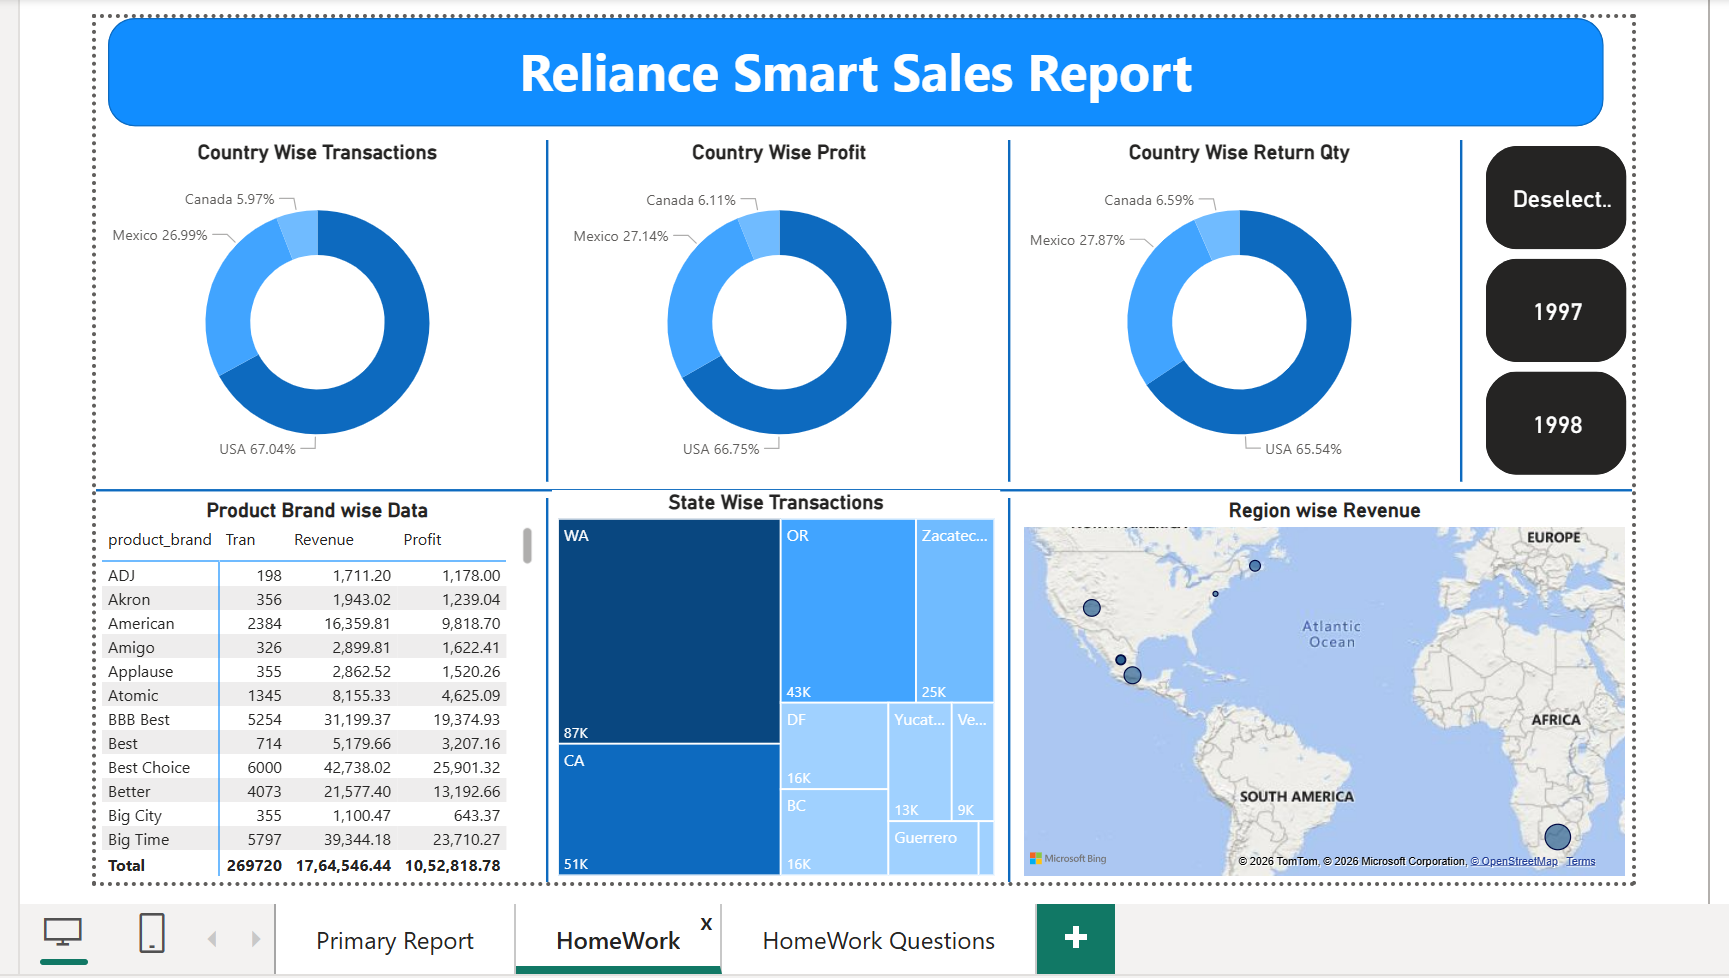

The dashboard page shown, as its layout file describes it:
{"tool":"powerbi","page":{"name":"HomeWork","canvas":[1280,720],"ordinal":1},"visuals":[{"type":"shape","box":[10.7,0,1246.3,90.3],"z":0},{"type":"textbox","box":[10.7,9.2,1246.3,72],"z":1000},{"type":"donutChart","title":"Country Wise Transactions","fields":{"Category":["d_Stores.store_country"],"Y":["Measure Table.M_Total_Transactions"]},"box":[0,101.1,369,284.8],"z":2000},{"type":"donutChart","title":"Country Wise Profit","fields":{"Category":["d_Stores.store_country"],"Y":["Measure Table.M_Total_Profit"]},"box":[384.3,101.1,369,284.8],"z":3000},{"type":"shape","box":[369,101.1,15.3,284.8],"z":4000},{"type":"shape","box":[753.3,101.1,15.3,284.8],"z":5000},{"type":"donutChart","title":"Country Wise Return Qty","fields":{"Category":["d_Stores.store_country"],"Y":["Measure Table.M_Total_Returns"]},"box":[768.6,101.1,369,284.8],"z":6000},{"type":"shape","box":[1130,101.1,15.3,284.8],"z":7000},{"type":"advancedSlicerVisual","fields":{"Values":["d_Calendar.Year"]},"box":[1152.9,101.1,127.1,284.8],"z":8000},{"type":"shape","box":[0,385.8,1280,13.8],"z":9000},{"type":"pivotTable","title":"Product Brand wise Data","fields":{"Rows":["d_Products.product_brand"],"Values":["Measure Table.M_Total_Transactions","Measure Table.M_Total_Revenue","Measure Table.M_Total_Profit"]},"box":[0,399.6,369,320],"z":10000},{"type":"shape","box":[369,399.6,15.3,320],"z":11000},{"type":"treemap","title":"State Wise Transactions","fields":{"Group":["d_Stores.store_state"],"Values":["Measure Table.M_Total_Transactions"]},"box":[379.7,393.5,373.6,326.1],"z":12000},{"type":"shape","box":[753.3,399.6,15.3,320],"z":13000},{"type":"map","title":"Region wise Revenue","fields":{"Category":["d_Regions.sales_region"],"Size":["Measure Table.M_Total_Revenue"]},"box":[768.6,399.6,511.4,320],"z":14000}]}

Visuals, with their boxes on the page's 1280x720 design canvas (x1, y1, x2, y2). These are canvas units, not pixel positions in the 1729x978 screenshot, which may show the page scaled, cropped or inside an application window:
shape: bbox=[11, 0, 1257, 90]
textbox: bbox=[11, 9, 1257, 81]
"Country Wise Transactions" donutChart: bbox=[0, 101, 369, 386]
"Country Wise Profit" donutChart: bbox=[384, 101, 753, 386]
shape: bbox=[369, 101, 384, 386]
shape: bbox=[753, 101, 769, 386]
"Country Wise Return Qty" donutChart: bbox=[769, 101, 1138, 386]
shape: bbox=[1130, 101, 1145, 386]
advancedSlicerVisual - d_Calendar.Year: bbox=[1153, 101, 1280, 386]
shape: bbox=[0, 386, 1280, 400]
"Product Brand wise Data" pivotTable: bbox=[0, 400, 369, 720]
shape: bbox=[369, 400, 384, 720]
"State Wise Transactions" treemap: bbox=[380, 394, 753, 720]
shape: bbox=[753, 400, 769, 720]
"Region wise Revenue" map: bbox=[769, 400, 1280, 720]
